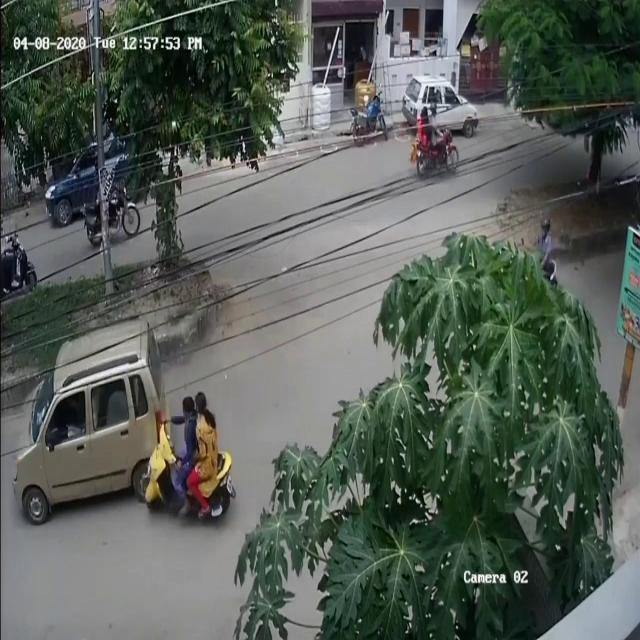accident: (7, 320, 239, 545)
